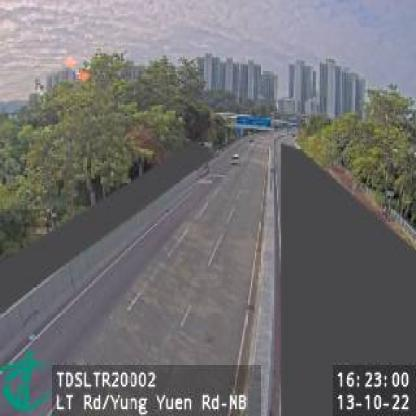Car: (230, 152, 240, 164)
